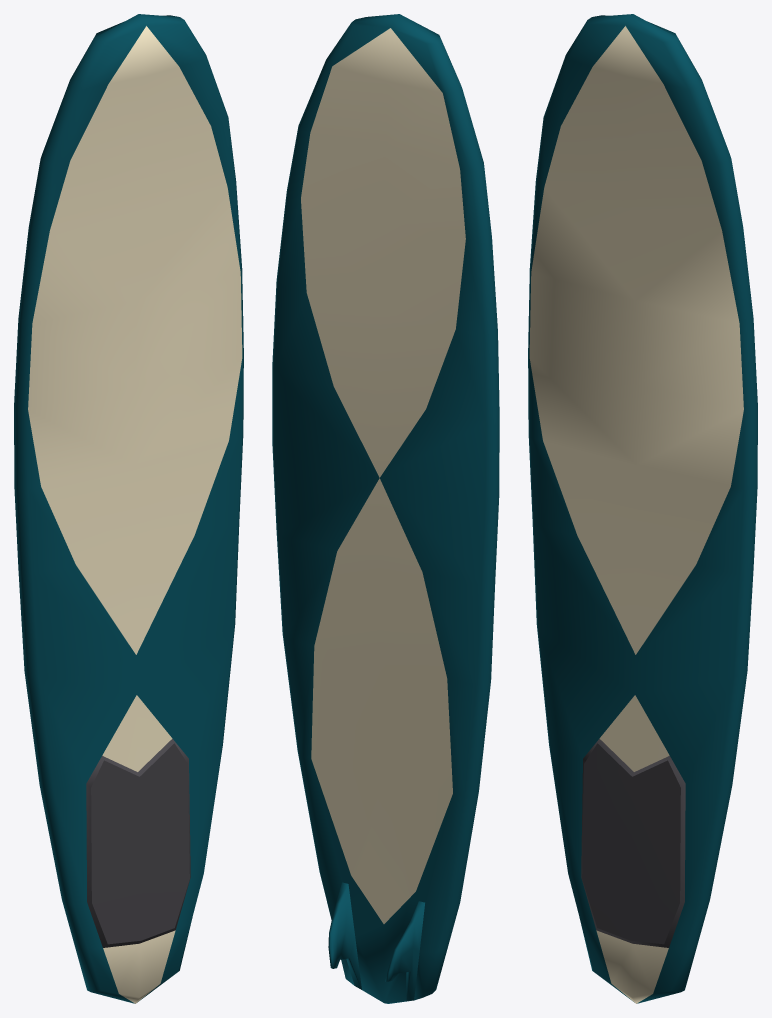
File: Surfboard 2.fbx
The picture shows the model from 3 angles, left to right: view 1: azimuth 30°, elevation 25°; view 2: azimuth 150°, elevation 25°; view 3: azimuth 330°, elevation 25°; orthographic projection.
Parts seen in each view (by area): view 1: Surfboard.002; view 2: Surfboard.002; view 3: Surfboard.002.
Boxes of the visible parts, <box> form: Surfboard.002: <box>14,14,243,1003</box>; Surfboard.002: <box>272,14,499,1003</box>; Surfboard.002: <box>528,14,757,1003</box>.
Size of the model in its own units: 0.6527 by 2.74 by 0.2242.
